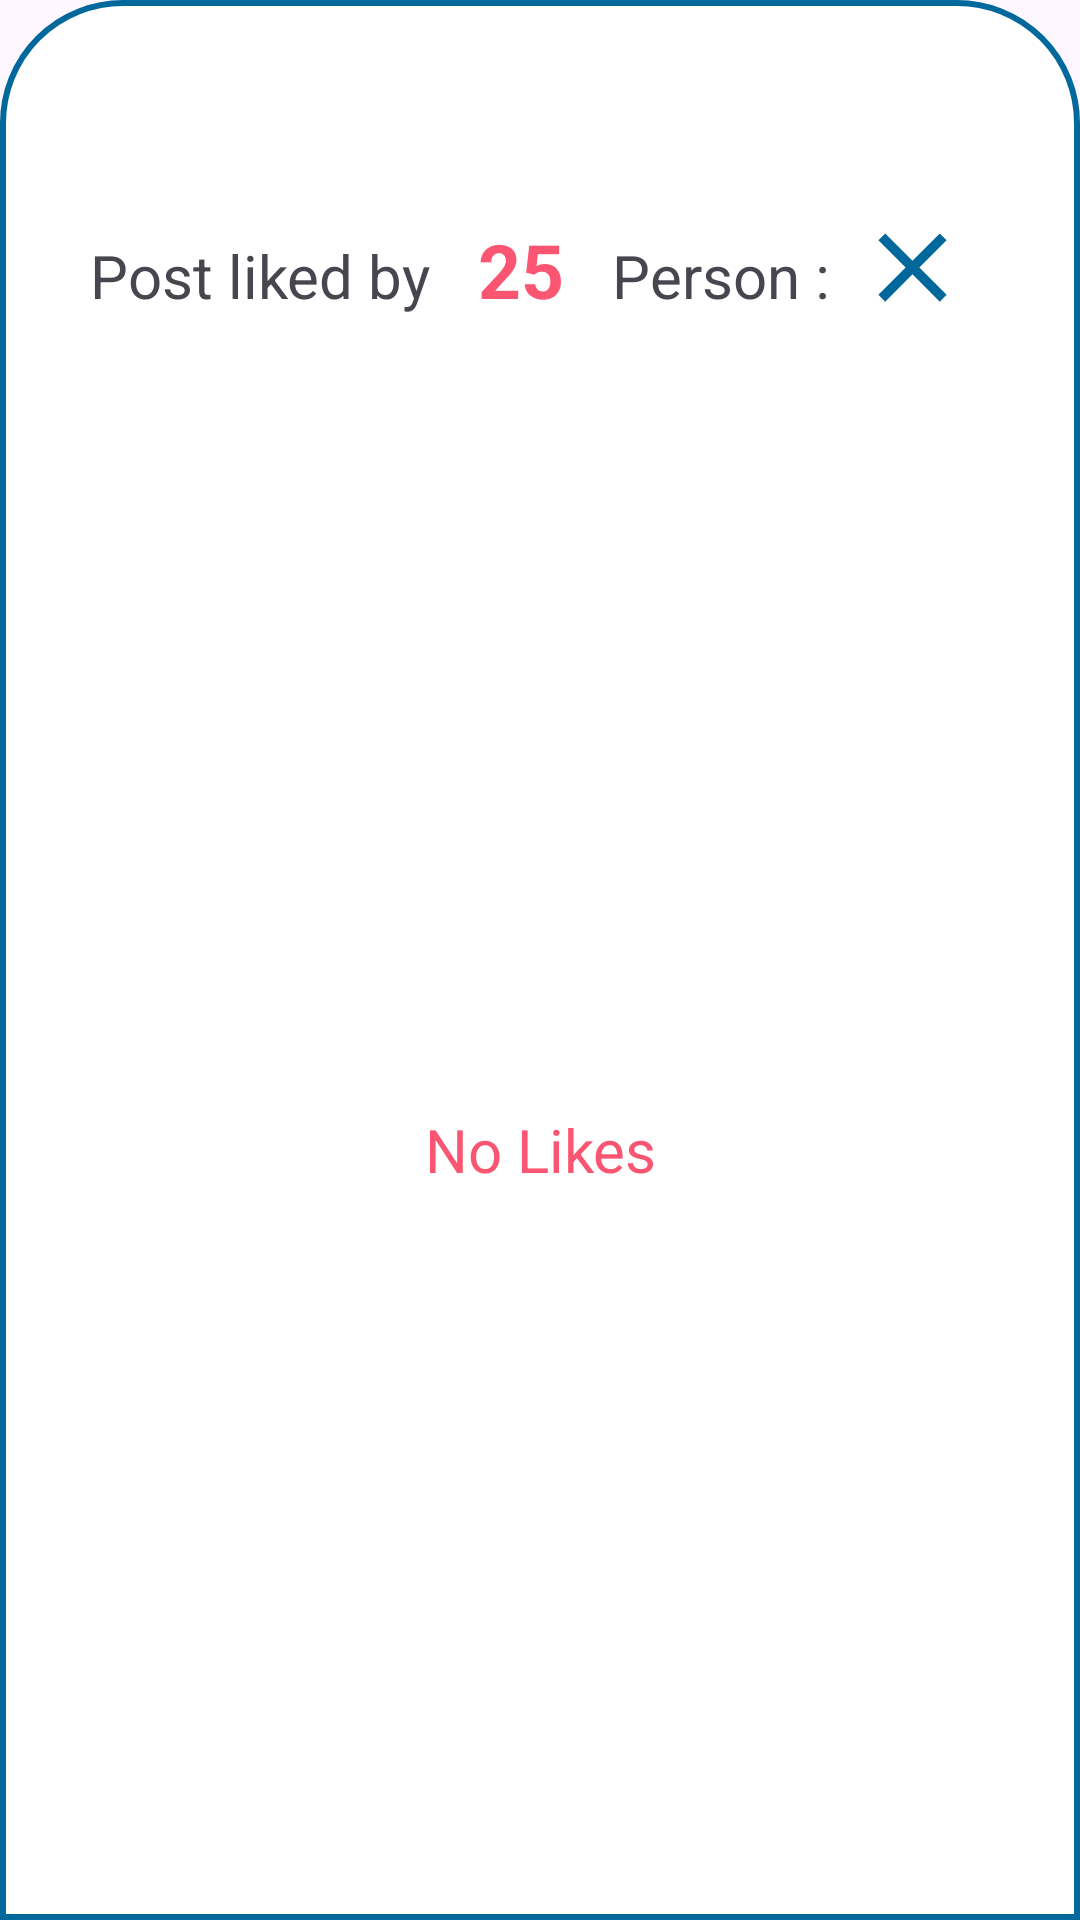

Icons on this 1080×1920 Android screen, each with its box as [x1, y1, x2, y2]:
clear: [878, 233, 947, 302]
